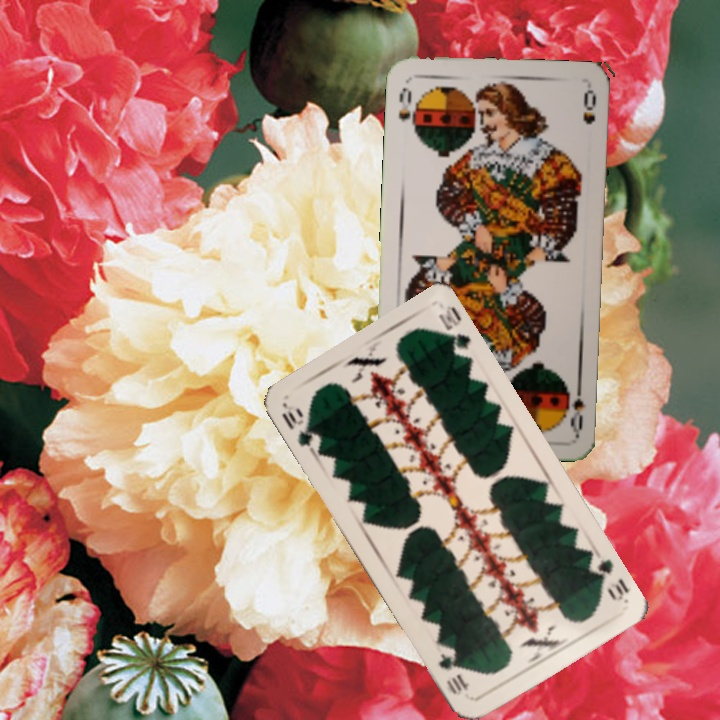G10: (277, 401, 324, 456), (585, 554, 632, 604)
SO: (565, 376, 588, 435), (394, 84, 419, 136)
